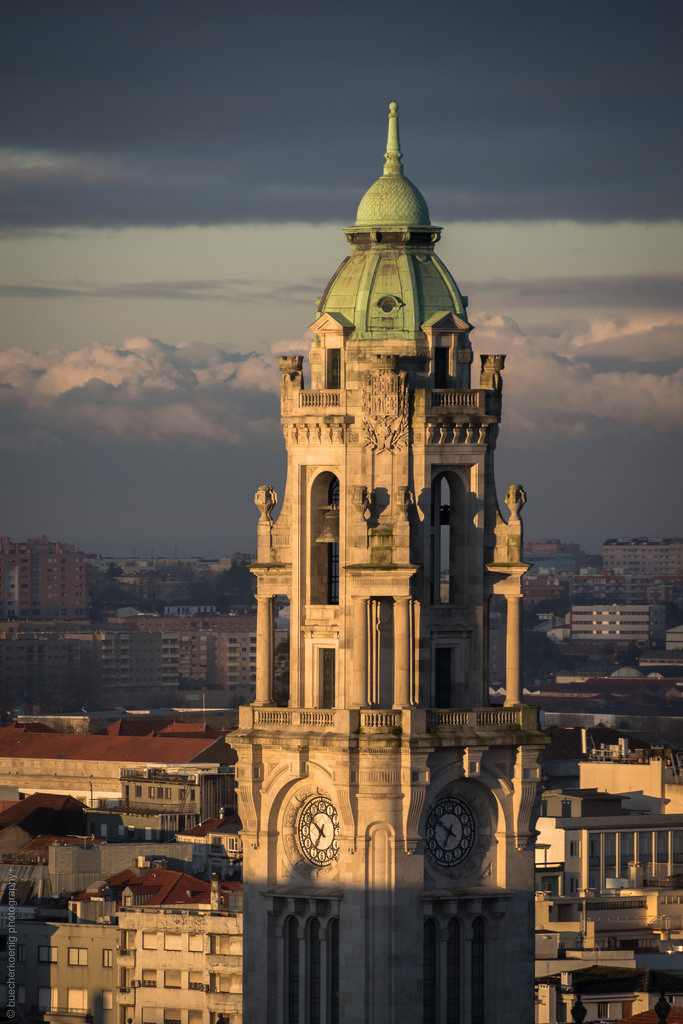camara: (223, 100, 555, 1023)
